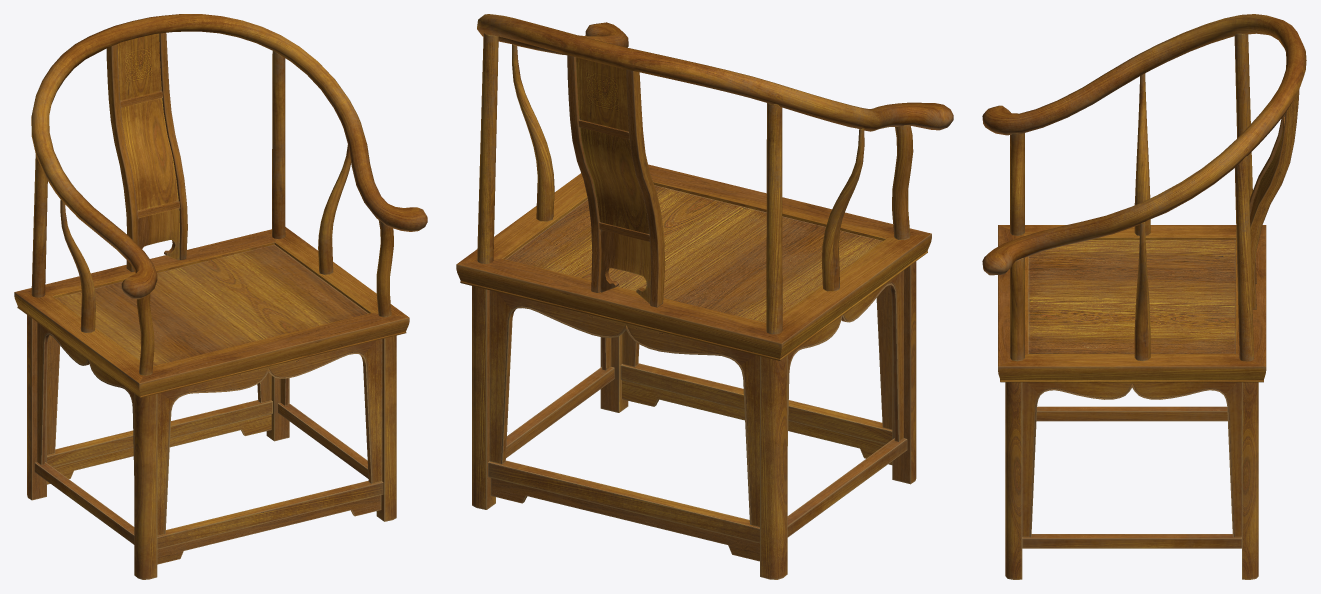
File: taishiyi.FBX
The picture shows the model from 3 angles, left to right: view 1: azimuth 30°, elevation 25°; view 2: azimuth 150°, elevation 25°; view 3: azimuth 270°, elevation 25°; orthographic projection. The views are drawn at different scales.
Parts seen in each view (by area): view 1: 面心, 扶手, 靠背板 (×5), 前大边, 前腿 (×2), 前券口牙子, 前牙条 (×2), 后牙条 (×2), 左大边, 后前大边, 后腿 (×2), 右上触 (+10 smaller); view 2: 面心, 靠背板 (×5), 扶手, 后前大边, 后腿 (×2), 后券口牙子, 后牙条 (×2), 前牙条 (×2), 左大边, 前腿 (×2), 前大边, 左上触 (+9 smaller); view 3: 面心, 扶手, 右大边, 右券口牙子, 前腿, 后腿, 右牙条, 靠背板 (×3), 左牙条, 右上触, 后前大边, 左大边 (+6 smaller).
Boxes of the visible parts, <box> form: 面心: <box>55,244,368,366</box>; 扶手: <box>31,14,427,299</box>; 靠背板 (×5): <box>106,33,187,271</box>; 前大边: <box>139,313,409,397</box>; 前腿 (×2): <box>134,335,396,579</box>; 前券口牙子: <box>157,339,382,535</box>; 前牙条 (×2): <box>157,480,383,564</box>; 后牙条 (×2): <box>47,400,272,484</box>; 左大边: <box>14,292,143,397</box>; 后前大边: <box>16,229,276,297</box>; 后腿 (×2): <box>27,315,289,500</box>; 右上触: <box>272,51,285,238</box>; 面心: <box>505,185,882,322</box>; 靠背板 (×5): <box>567,55,665,307</box>; 扶手: <box>477,14,953,131</box>; 后前大边: <box>456,258,781,360</box>; 后腿 (×2): <box>472,286,787,579</box>; 后券口牙子: <box>489,290,759,527</box>; 后牙条 (×2): <box>488,460,759,561</box>; 前牙条 (×2): <box>620,363,892,464</box>; 左大边: <box>776,233,931,360</box>; 前腿 (×2): <box>600,261,916,484</box>; 前大边: <box>648,164,931,240</box>; 左上触: <box>766,103,782,334</box>; 面心: <box>1028,240,1235,353</box>; 扶手: <box>982,14,1306,275</box>; 右大边: <box>998,354,1266,382</box>; 右券口牙子: <box>1022,382,1241,537</box>; 前腿: <box>1005,382,1022,579</box>; 后腿: <box>1242,382,1258,579</box>; 右牙条: <box>1022,534,1241,548</box>; 靠背板 (×3): <box>1249,88,1299,309</box>; 左牙条: <box>1036,406,1227,421</box>; 右上触: <box>1234,156,1253,361</box>; 后前大边: <box>1235,225,1266,380</box>; 左大边: <box>999,225,1264,239</box>.
Size of what is drawn, in the model's own units: 87.13 by 118 by 75.25.
